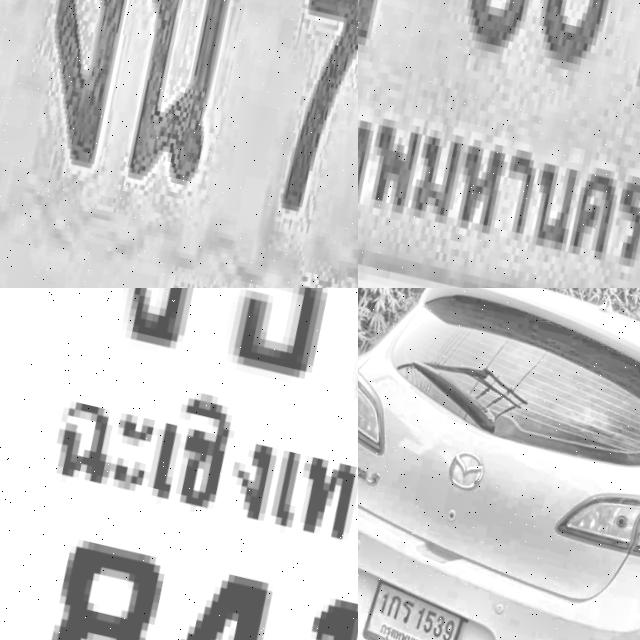license-plate: (0, 288, 358, 640), (0, 0, 358, 288), (358, 0, 640, 288), (358, 567, 470, 640)
